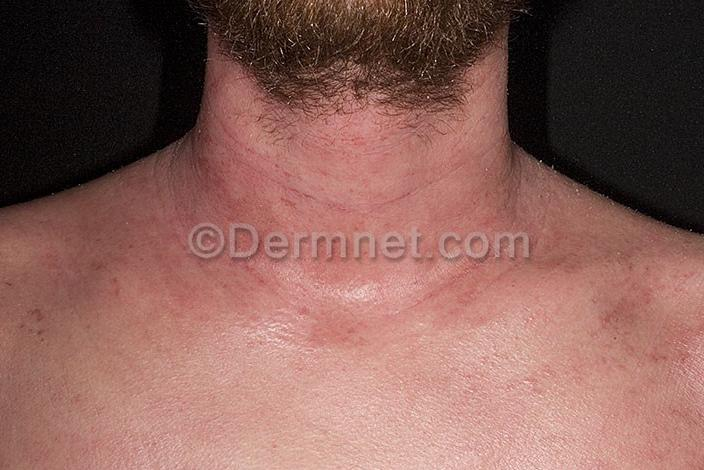Eritema 2: (0, 32, 662, 361)
exudacion 1: (272, 182, 424, 221)
xerosis 1: (509, 138, 704, 252)
